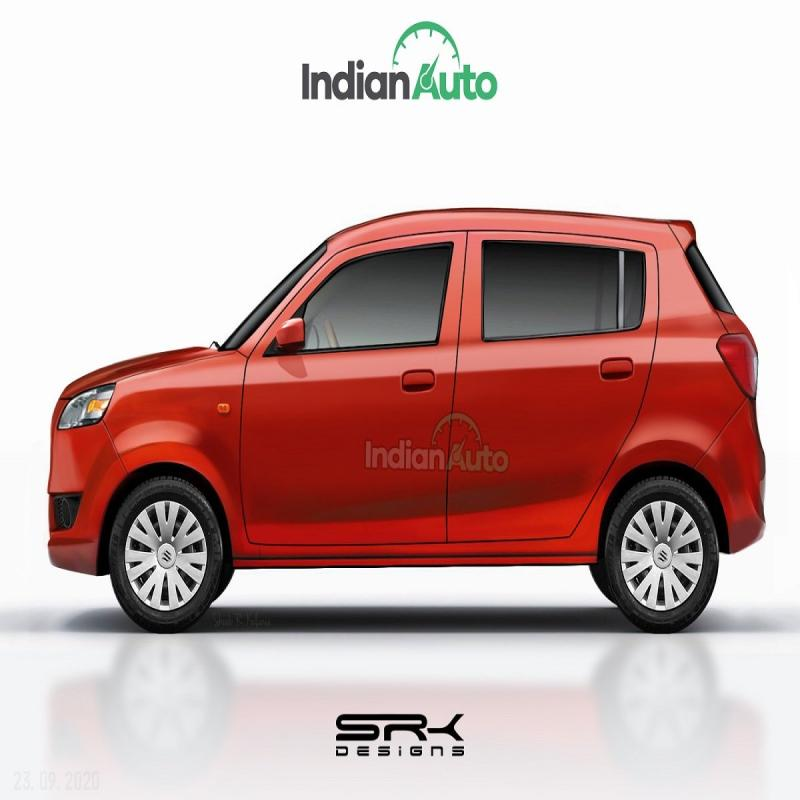car: (12, 140, 762, 636)
